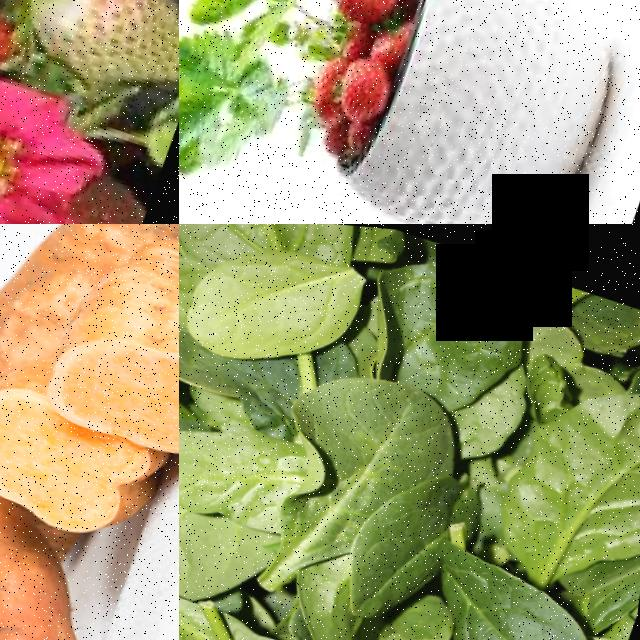spinach: (274, 347, 477, 527), (491, 344, 640, 587), (179, 224, 376, 385), (313, 583, 630, 640), (179, 397, 308, 536)
strawberry: (29, 0, 179, 98)
sweet potato: (38, 224, 179, 455), (0, 385, 170, 542), (0, 476, 142, 640)
